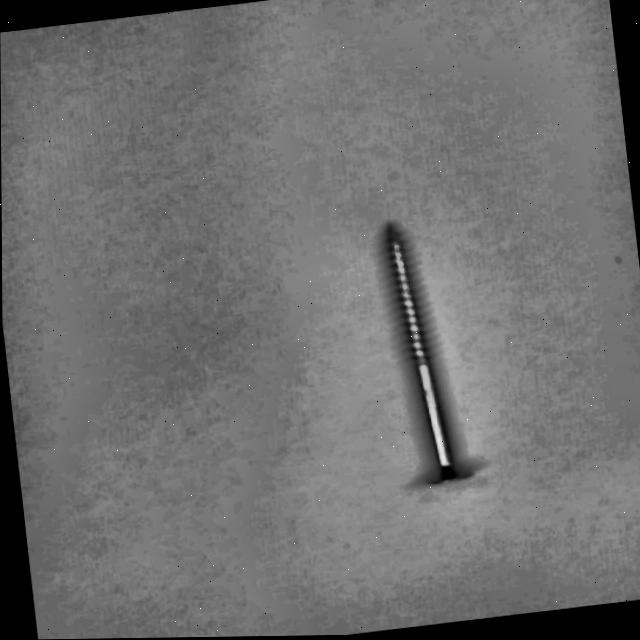Wood screw: (356, 206, 487, 499)
